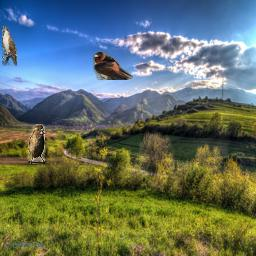Cuckoo: (2, 26, 17, 66)
Sparrow: (28, 124, 45, 164)
Swallow: (93, 51, 133, 80)
